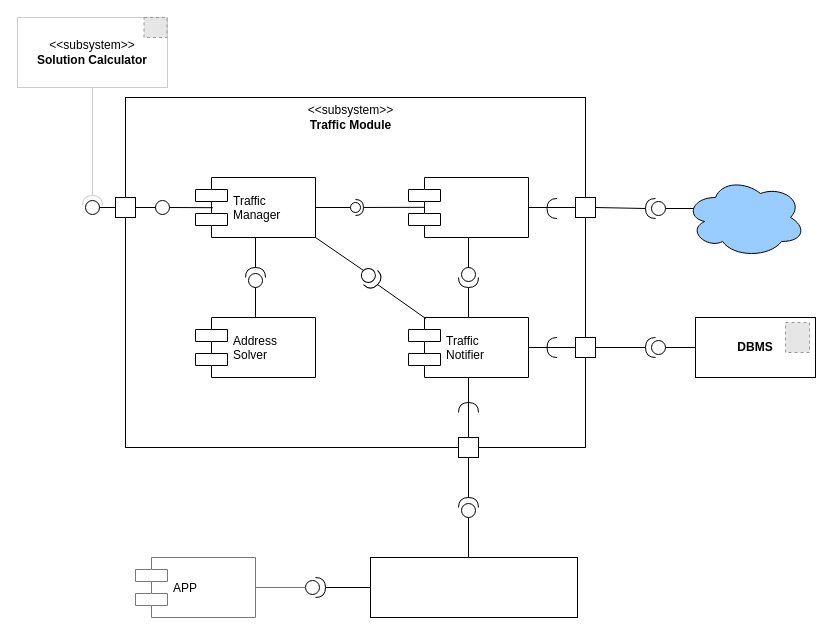
Some shapes in this 833 by 635 pixel diagram are drawn without their labels. Grey dashed boxes stand in for pictures. Each missing label, with the centre of its shape:
"<<subsystem>> Notification Manager" goes at point (474, 587).
"Google API" goes at point (745, 217).
"Traffic Querier" goes at point (468, 207).
